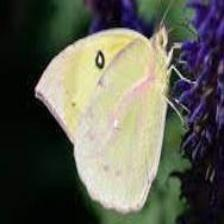butterfly: (35, 26, 170, 212)
